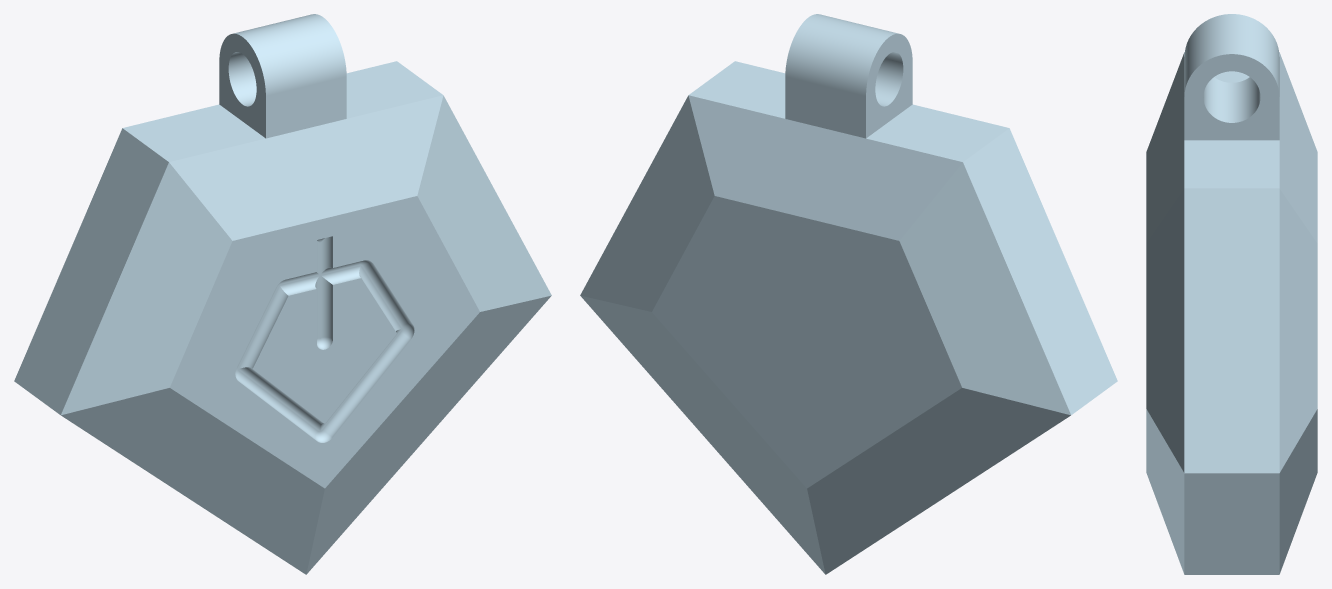
The model's file is pendant.gltf.
3 views of the same model, side by side, from view 1: azimuth 30°, elevation 25°; view 2: azimuth 150°, elevation 25°; view 3: azimuth 270°, elevation 25° (orthographic).
Visible parts, largest first — view 1: Part 1; view 2: Part 1; view 3: Part 1.
Part boxes in pixels (x1=…): Part 1: x1=14, y1=14, x2=551, y2=574; Part 1: x1=580, y1=14, x2=1117, y2=574; Part 1: x1=1146, y1=14, x2=1317, y2=574.
Bounding box in the file's own units: 0.0304 × 0.0314 × 0.009.
